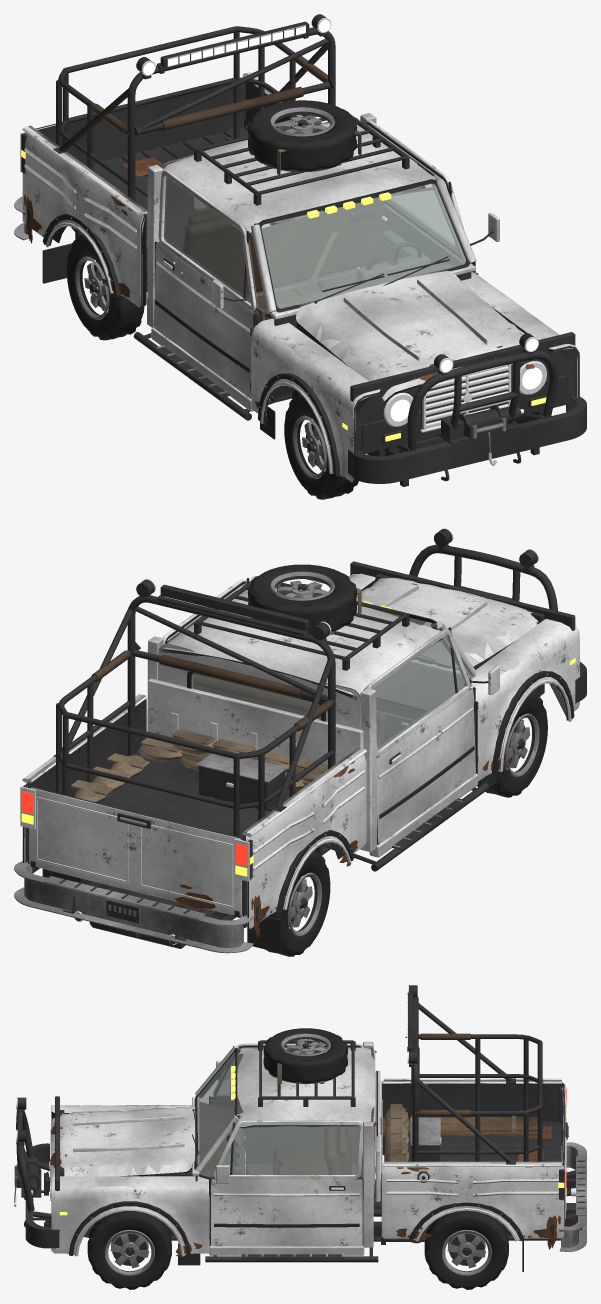
File: dev_t2.glb
The picture shows the model from 3 angles, top to bottom: view 1: azimuth 30°, elevation 25°; view 2: azimuth 150°, elevation 25°; view 3: azimuth 270°, elevation 25°; orthographic projection. The views are drawn at different scales.
Parts seen in each view (by area): view 1: body, panel_door_R, panel_hood, panel_fender_R, panel_bumper_F, panel_tailgate, wheel_RR, panel_door_L, wheel_FR, panel_fender_L; view 2: body, panel_tailgate, panel_door_R, panel_fender_R, panel_bumper_R, panel_hood, wheel_RR, wheel_FR; view 3: body, panel_door_L, panel_hood, panel_fender_L, wheel_RL, wheel_FL, panel_bumper_F, panel_bumper_R, panel_door_R, panel_fender_R, panel_tailgate.
Boxes of the visible parts, <box> form: body: <box>20,14,575,486</box>; panel_door_R: <box>153,169,259,398</box>; panel_hood: <box>296,271,544,401</box>; panel_fender_R: <box>251,318,380,482</box>; panel_bumper_F: <box>348,396,586,483</box>; panel_tailgate: <box>35,84,249,165</box>; wheel_RR: <box>66,234,144,340</box>; panel_door_L: <box>365,120,499,274</box>; wheel_FR: <box>284,394,358,499</box>; panel_fender_L: <box>461,272,579,412</box>; body: <box>20,528,575,952</box>; panel_tailgate: <box>29,787,242,917</box>; panel_door_R: <box>365,627,499,844</box>; panel_fender_R: <box>470,619,579,787</box>; panel_bumper_R: <box>14,861,253,953</box>; panel_hood: <box>356,577,538,666</box>; wheel_RR: <box>264,851,330,956</box>; wheel_FR: <box>477,692,547,797</box>; body: <box>15,985,582,1271</box>; panel_door_L: <box>209,1120,362,1246</box>; panel_hood: <box>46,1105,194,1182</box>; panel_fender_L: <box>51,1176,209,1265</box>; wheel_RL: <box>424,1210,508,1289</box>; wheel_FL: <box>87,1211,171,1289</box>; panel_bumper_F: <box>14,1143,59,1248</box>; panel_bumper_R: <box>559,1142,586,1251</box>; panel_door_R: <box>211,1043,363,1163</box>; panel_fender_R: <box>51,1105,191,1119</box>; panel_tailgate: <box>533,1086,568,1226</box>.
Bounding box in the file's own units: 2.49 × 2.55 × 5.7.
16 materials, 9 textured.
